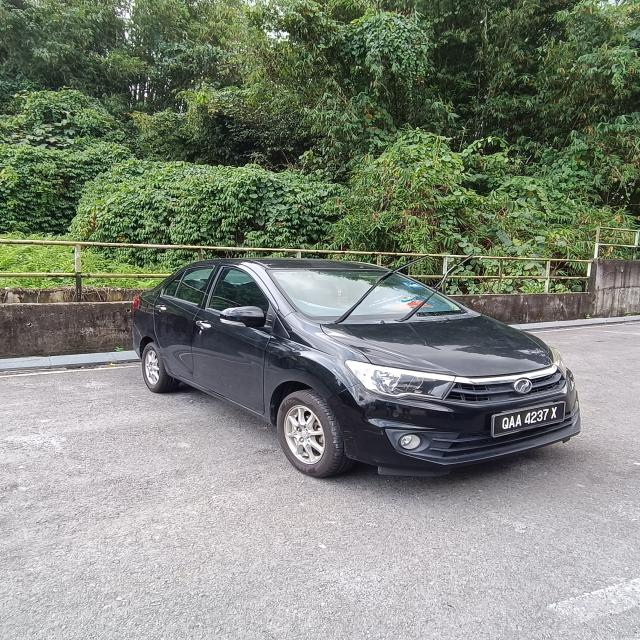PeroduaBezza: (130, 255, 582, 479)
